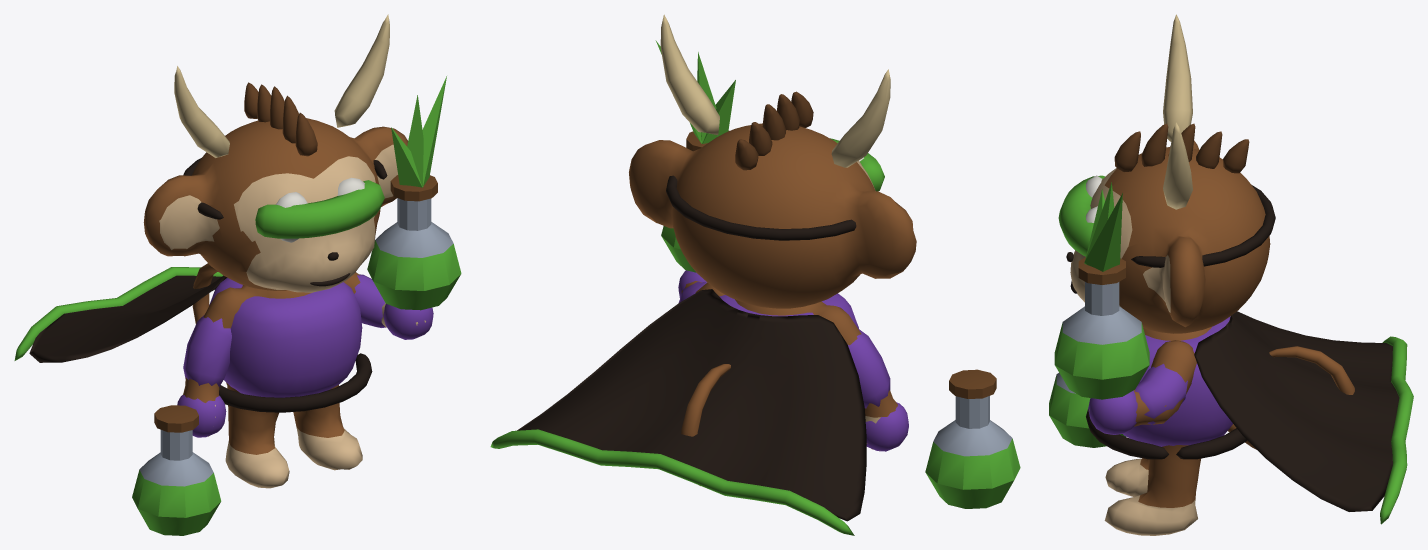
3 renders of one model, left to right at view 1: azimuth 30°, elevation 25°; view 2: azimuth 150°, elevation 25°; view 3: azimuth 270°, elevation 25°, orthographic. The views are drawn at different scales.
Visible parts, largest first — view 1: alquimista_3_cabeca, alquimista_1_corpo, alquimista_4_braco, alquimista_0_base, alquimista_2_cauda; view 2: alquimista_1_corpo, alquimista_3_cabeca, alquimista_0_base, alquimista_4_braco, alquimista_2_cauda; view 3: alquimista_1_corpo, alquimista_3_cabeca, alquimista_4_braco, alquimista_0_base, alquimista_2_cauda.
Part boxes in pixels (bbox=[...]): alquimista_3_cabeca: bbox=[143, 14, 407, 292]; alquimista_1_corpo: bbox=[14, 267, 372, 488]; alquimista_4_braco: bbox=[344, 76, 461, 339]; alquimista_0_base: bbox=[132, 405, 221, 535]; alquimista_2_cauda: bbox=[192, 263, 218, 323]; alquimista_1_corpo: bbox=[490, 289, 908, 535]; alquimista_3_cabeca: bbox=[629, 14, 916, 308]; alquimista_0_base: bbox=[925, 369, 1020, 508]; alquimista_4_braco: bbox=[655, 40, 735, 302]; alquimista_2_cauda: bbox=[681, 364, 730, 485]; alquimista_1_corpo: bbox=[1086, 311, 1413, 535]; alquimista_3_cabeca: bbox=[1058, 14, 1275, 333]; alquimista_4_braco: bbox=[1054, 182, 1196, 434]; alquimista_0_base: bbox=[1049, 373, 1125, 447]; alquimista_2_cauda: bbox=[1228, 346, 1354, 449].
Bounding box in the file's own units: 1.05 × 1.2 × 0.8897.
